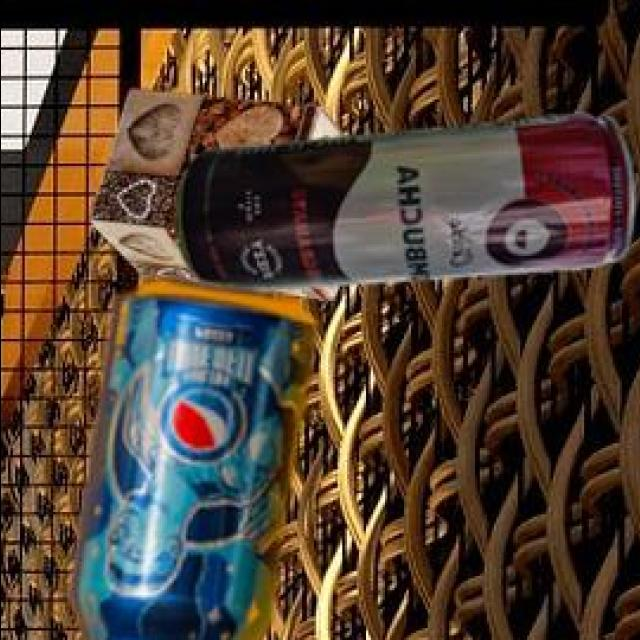logam: (72, 283, 319, 640), (179, 115, 636, 295), (94, 91, 347, 305)
